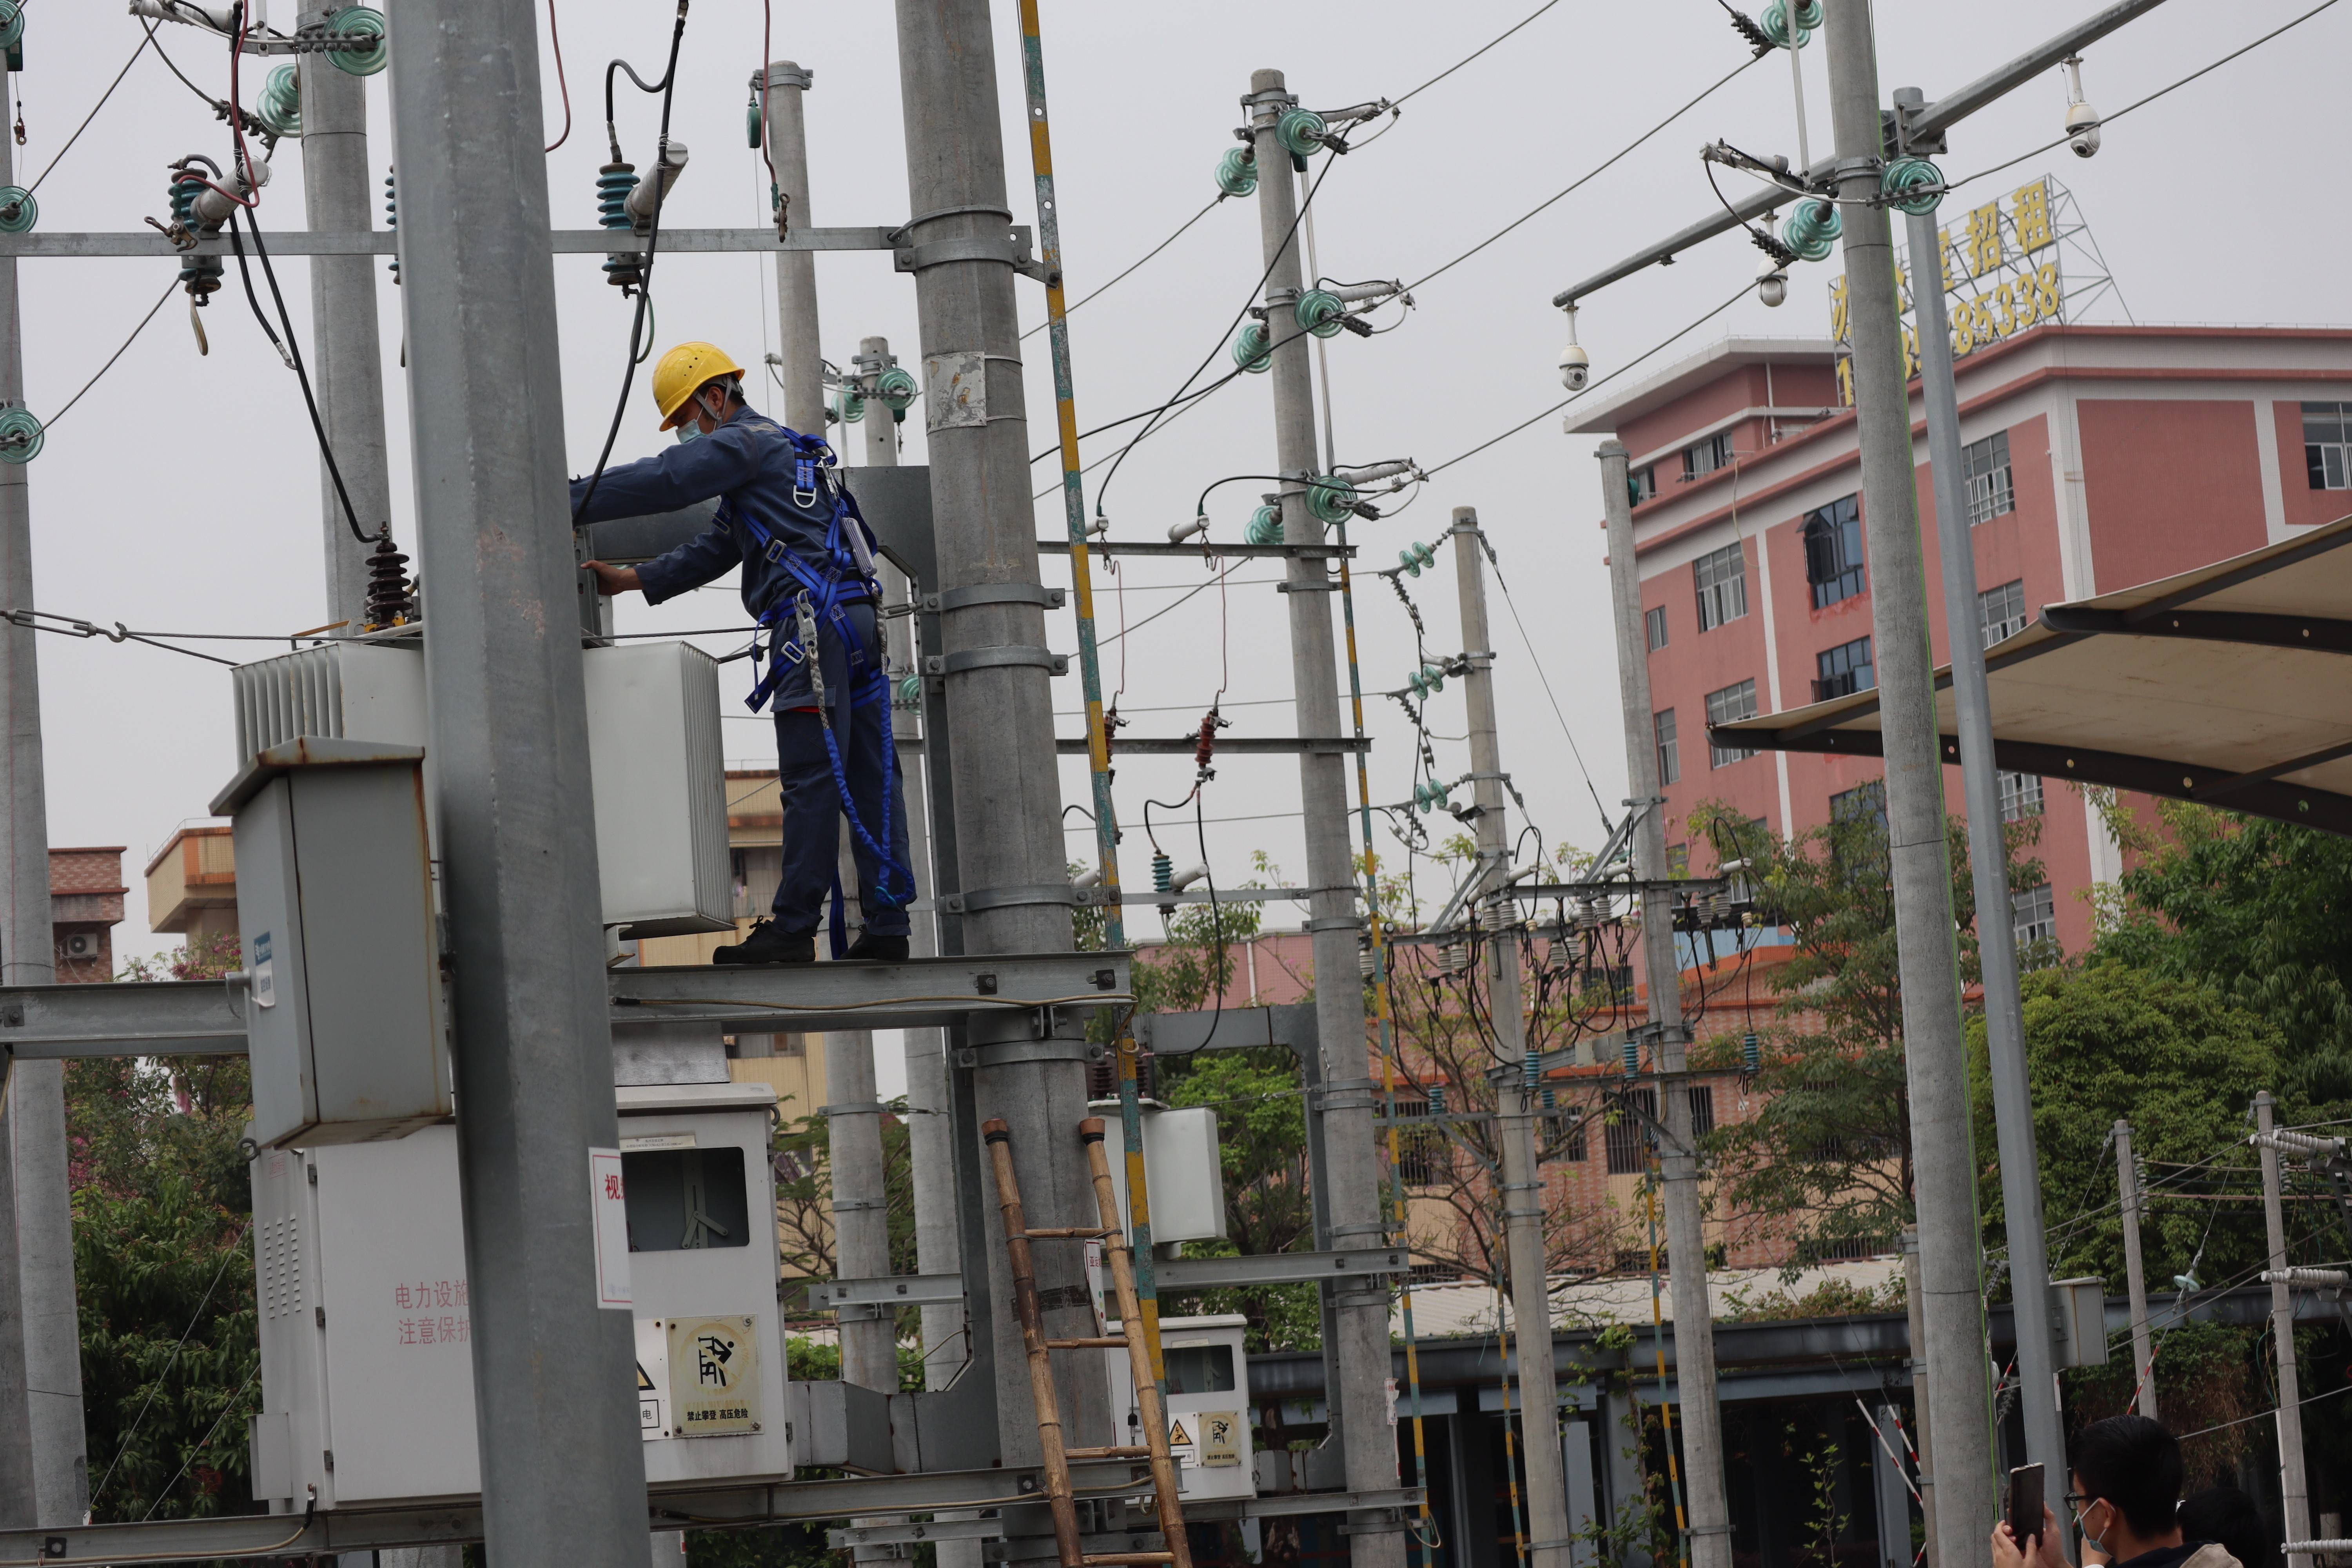downsuit: (752, 618, 921, 926)
upsuit: (577, 411, 875, 588)
